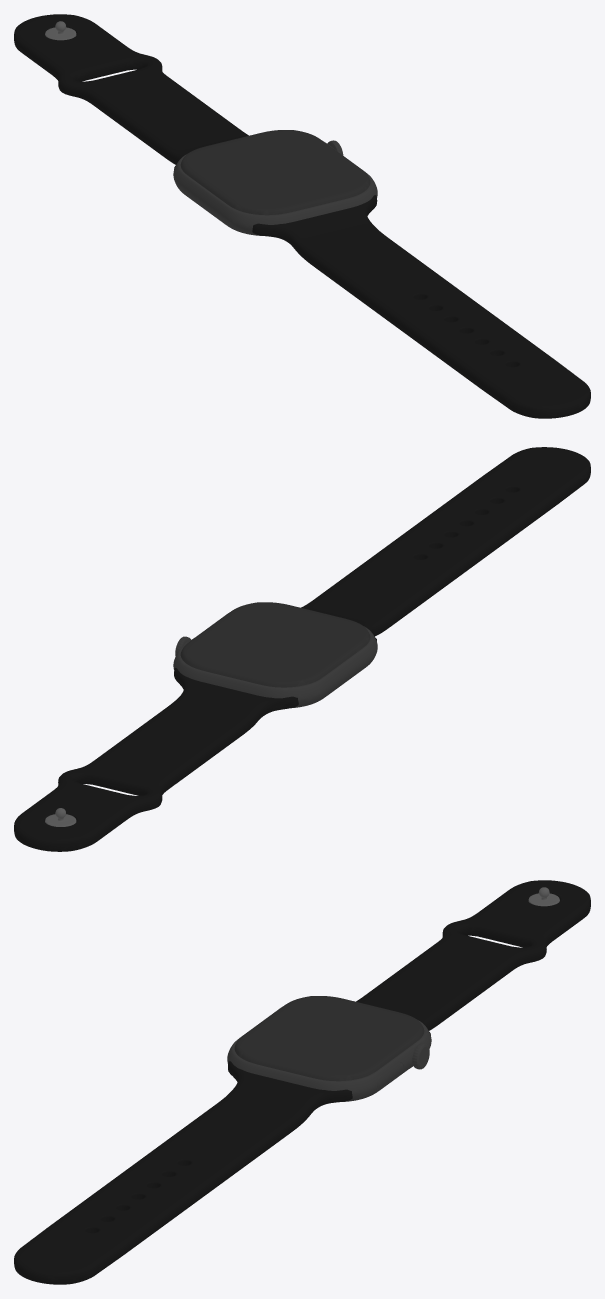
Rendered from apple-watch-series-11-display.glb.
3 views of the same model, one above another, from view 1: azimuth 30°, elevation 25°; view 2: azimuth 150°, elevation 25°; view 3: azimuth 330°, elevation 25° (orthographic).
Visible parts, largest first — view 1: Apple Watch Series 11 - Jet Black_AppleWatch11_MTL_0; view 2: Apple Watch Series 11 - Jet Black_AppleWatch11_MTL_0; view 3: Apple Watch Series 11 - Jet Black_AppleWatch11_MTL_0.
Boxes of the visible parts, box(x1,y1,x2,y2) form: Apple Watch Series 11 - Jet Black_AppleWatch11_MTL_0: box(14, 14, 590, 418); Apple Watch Series 11 - Jet Black_AppleWatch11_MTL_0: box(14, 447, 590, 851); Apple Watch Series 11 - Jet Black_AppleWatch11_MTL_0: box(14, 880, 590, 1284).
Bounding box in the file's own units: 1.95 × 0.4057 × 11.91.
Materials: 1 (1 with a texture image).
